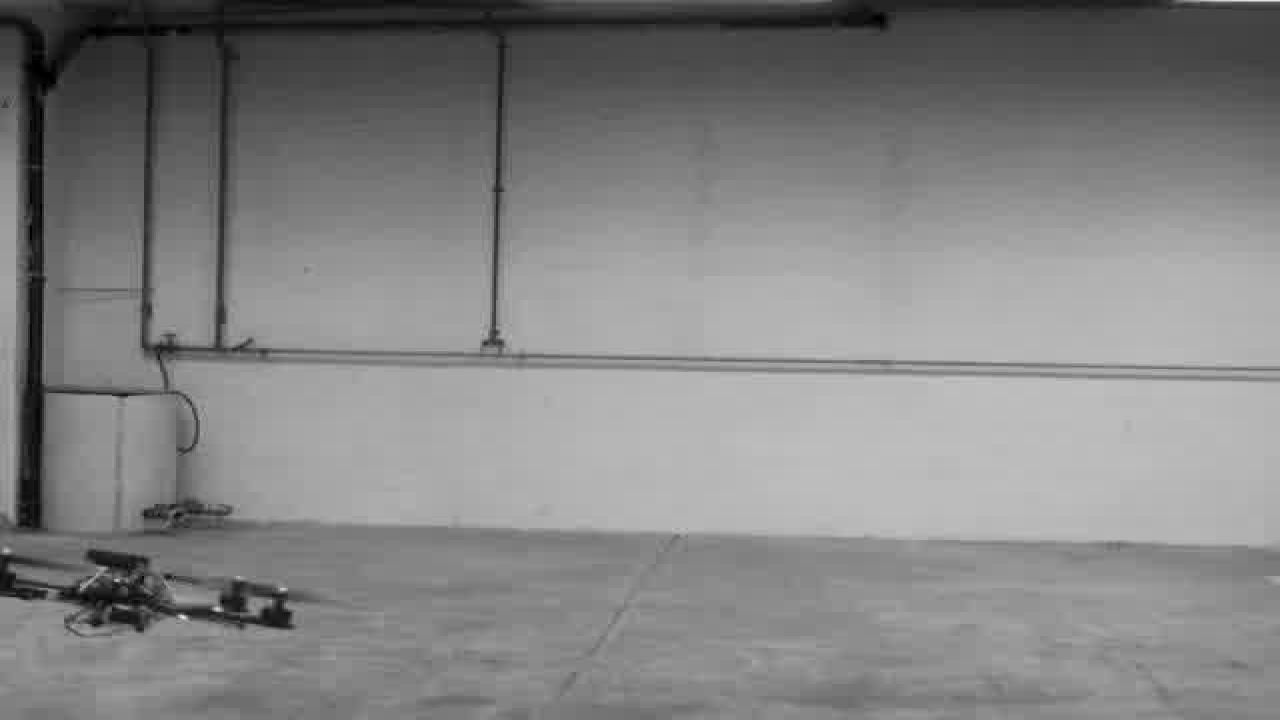Drone: (0, 536, 340, 652)
